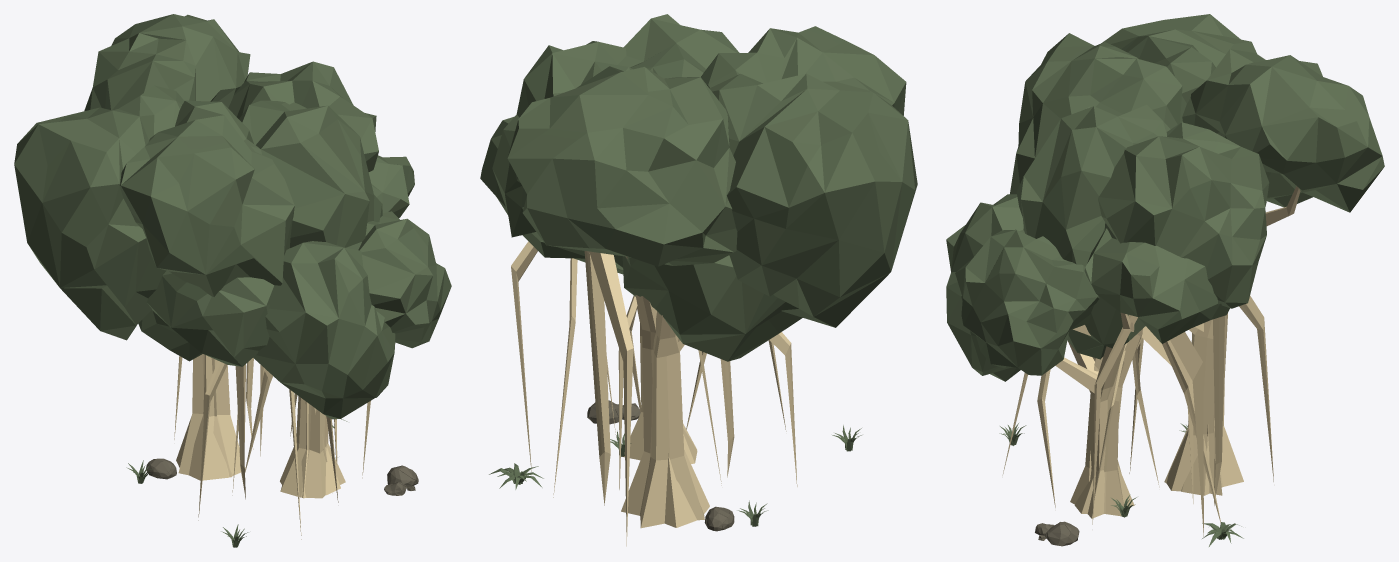
Rendered from Kapre-Baliti.fbx.
3 renders of one model, left to right at view 1: azimuth 30°, elevation 25°; view 2: azimuth 150°, elevation 25°; view 3: azimuth 270°, elevation 25°, orthographic. The views are drawn at different scales.
Visible parts, largest first — view 1: Stone_group_average_mossy.006; view 2: Stone_group_average_mossy.006; view 3: Stone_group_average_mossy.006.
Part boxes in pixels (x1=…): Stone_group_average_mossy.006: x1=14, y1=14, x2=451, y2=547; Stone_group_average_mossy.006: x1=480, y1=14, x2=917, y2=546; Stone_group_average_mossy.006: x1=946, y1=14, x2=1384, y2=546.
Bounding box in the file's own units: 749 × 808 × 759.
